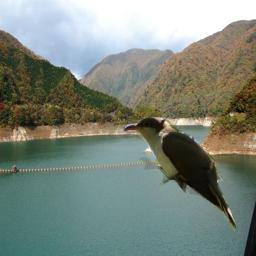Cuckoo: (121, 117, 236, 232)
